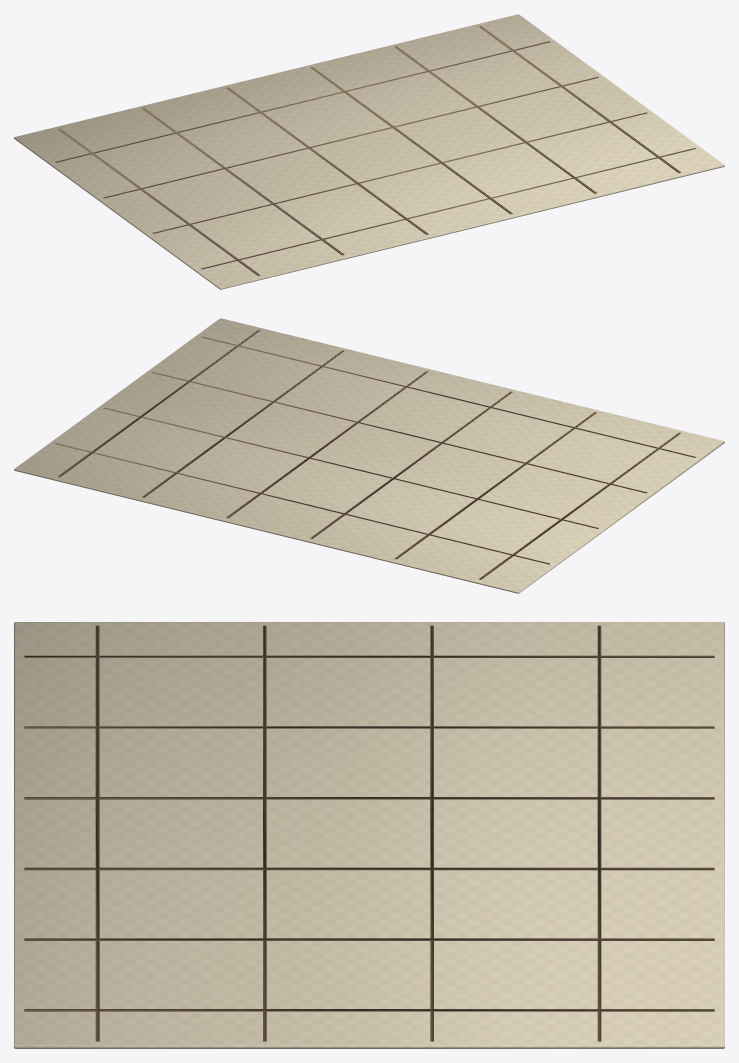
File: rug.glb
3 views of the same model, one above another, from view 1: azimuth 30°, elevation 25°; view 2: azimuth 150°, elevation 25°; view 3: azimuth 270°, elevation 25° (orthographic). The views are drawn at different scales.
Visible parts, largest first — view 1: rug-mesh; view 2: rug-mesh; view 3: rug-mesh.
Boxes of the visible parts, left/top/right/bottom form: rug-mesh: left=14, top=14, right=724, bottom=289; rug-mesh: left=14, top=318, right=724, bottom=593; rug-mesh: left=14, top=622, right=724, bottom=1048.
Size of the model in its own units: 2.4 by 0.01 by 1.7.
Materials: 2 (2 with a texture image).
